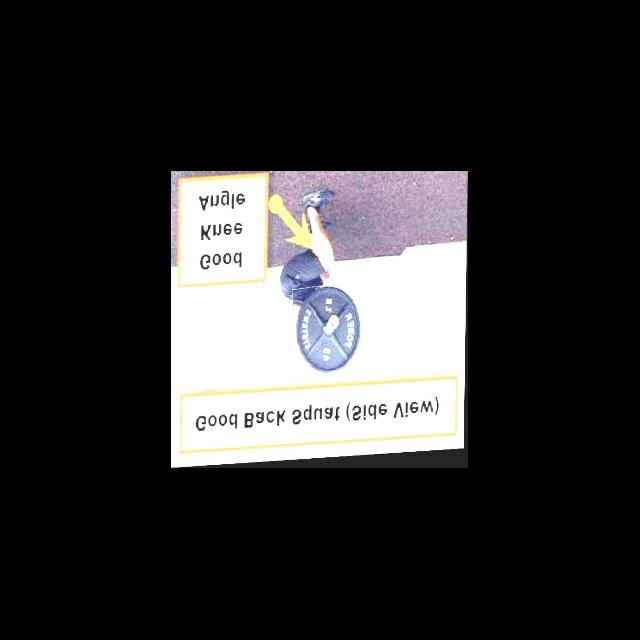barbell: (293, 283, 366, 382)
